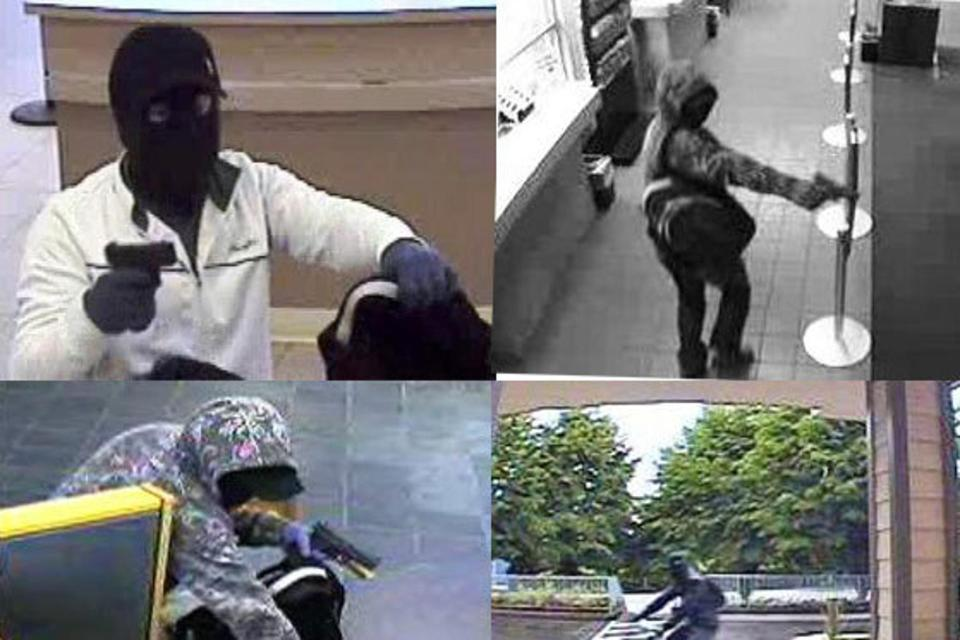non-violence: (8, 18, 462, 380), (45, 388, 352, 640), (637, 56, 832, 382), (625, 551, 730, 640)
weapon: (102, 236, 179, 334), (303, 514, 385, 584), (804, 169, 861, 217)
